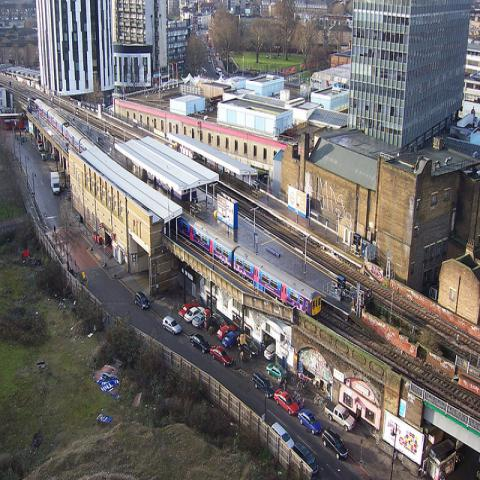car: (178, 296, 354, 471), (320, 426, 349, 460), (273, 388, 300, 416), (271, 420, 296, 450), (298, 408, 324, 434), (253, 371, 276, 398), (210, 344, 233, 368), (266, 362, 289, 383), (190, 332, 210, 353), (162, 315, 182, 335), (184, 306, 205, 323), (216, 324, 238, 340), (134, 291, 151, 310), (263, 341, 275, 361)
truck: (324, 400, 356, 433), (50, 171, 60, 195)
